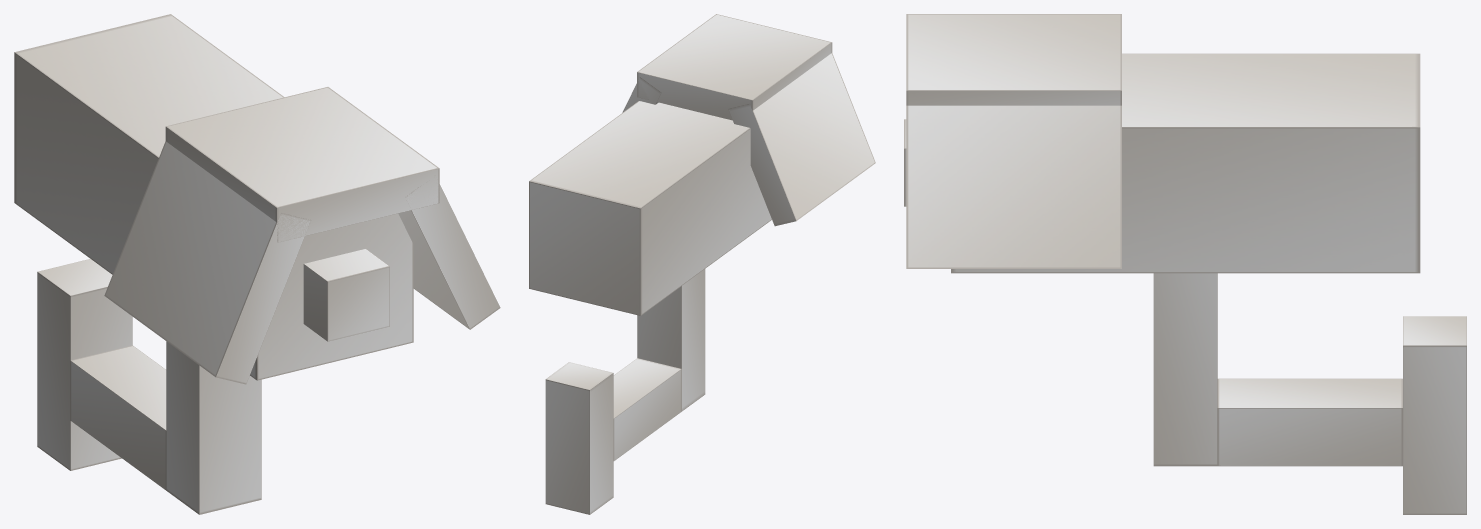
File: scene_placeholder_securitycam.fbx
3 renders of one model, left to right at view 1: azimuth 30°, elevation 25°; view 2: azimuth 150°, elevation 25°; view 3: azimuth 270°, elevation 25°, orthographic. The views are drawn at different scales.
Parts seen in each view (by area): view 1: mesh_securitycam_looker, mesh_securitycam; view 2: mesh_securitycam_looker, mesh_securitycam; view 3: mesh_securitycam_looker, mesh_securitycam.
Part boxes in pixels (x1,y1,x2,y2): mesh_securitycam_looker: [14, 14, 500, 384]; mesh_securitycam: [37, 259, 261, 514]; mesh_securitycam_looker: [529, 14, 875, 315]; mesh_securitycam: [545, 269, 705, 514]; mesh_securitycam_looker: [904, 14, 1420, 273]; mesh_securitycam: [1153, 273, 1466, 514].
Size of the model in its own units: 0.3491 by 0.5426 by 0.618.
1 material, 1 textured.
